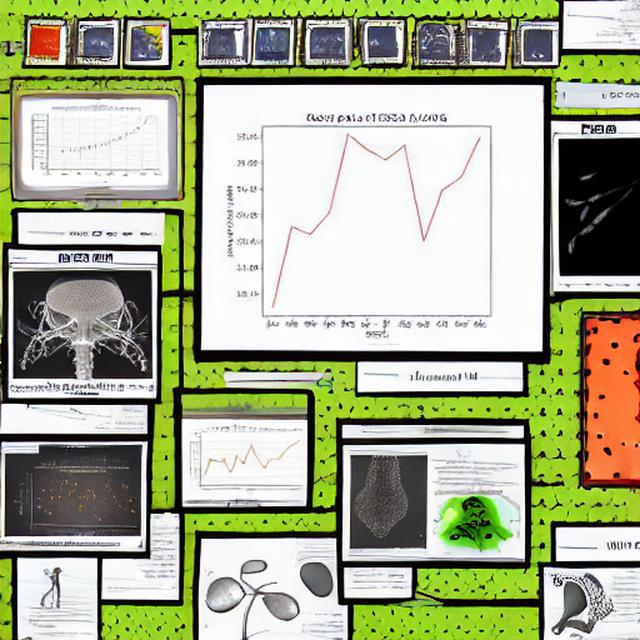Graph: (208, 96, 537, 343), (28, 104, 165, 184), (19, 464, 141, 536), (185, 426, 304, 497)
